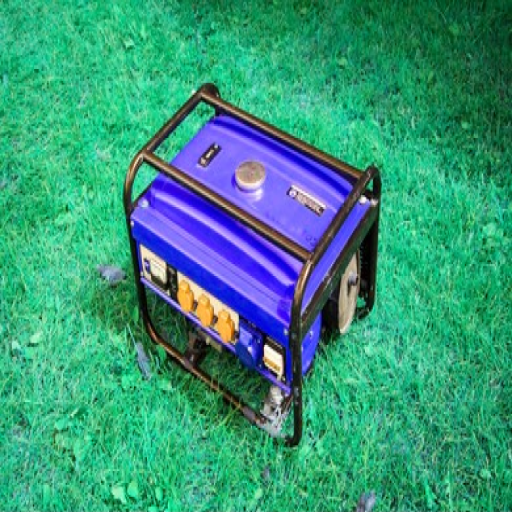portable_generator: (124, 84, 382, 447)
